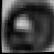correct: (0, 2, 54, 54)
